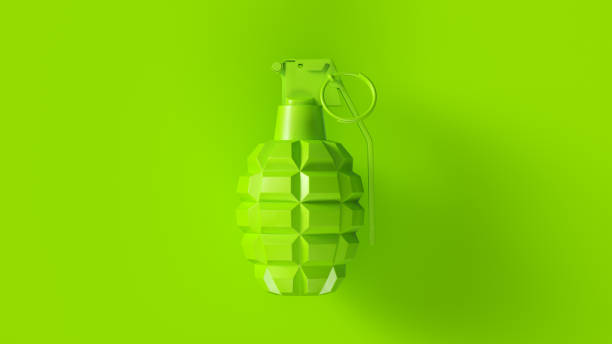e1: (237, 57, 380, 309)
